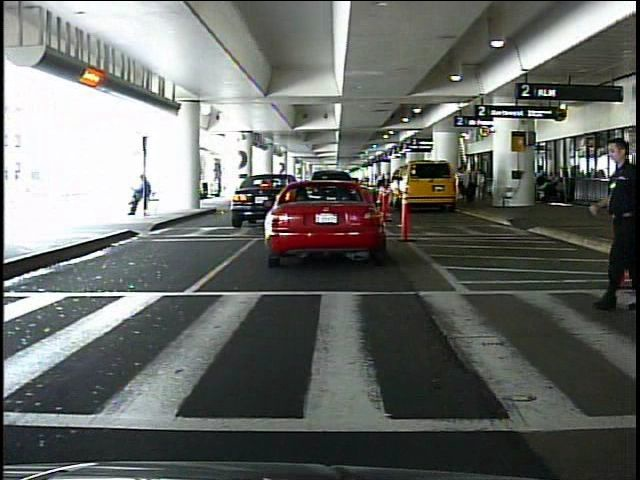person: (596, 135, 638, 313)
